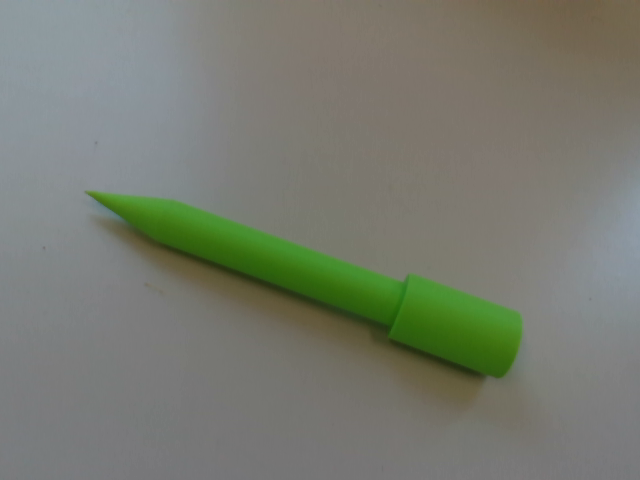Probe: (78, 182, 531, 389)
